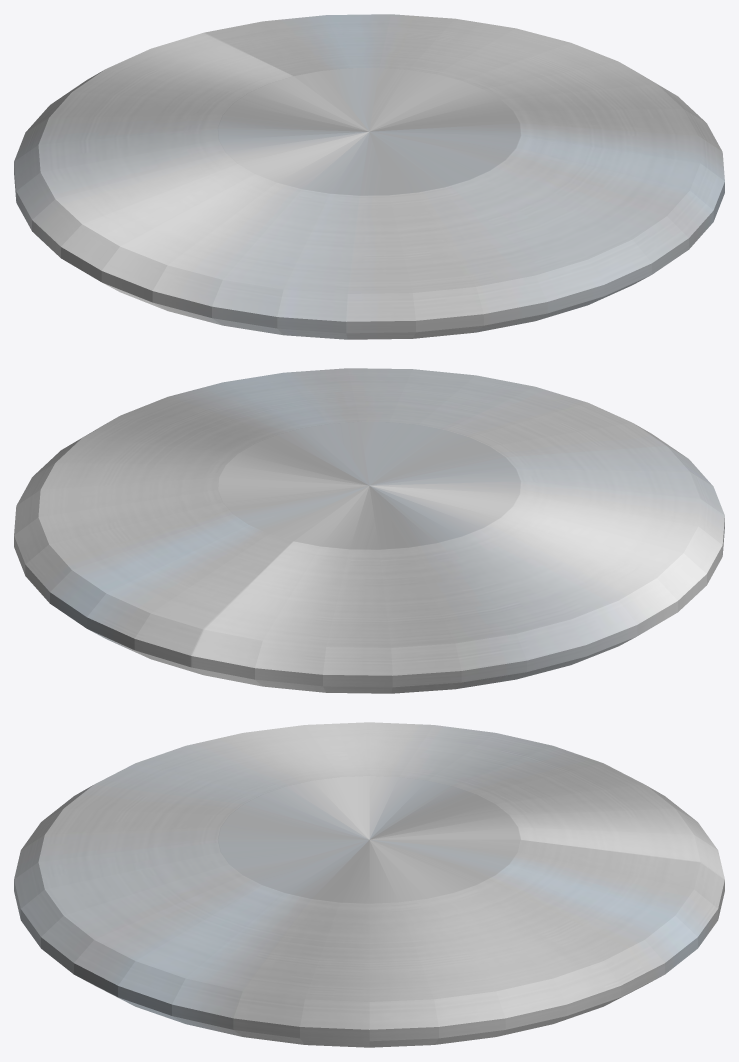
The model's file is ufoBody.obj.
3 views of the same model, one above another, from view 1: azimuth 30°, elevation 25°; view 2: azimuth 150°, elevation 25°; view 3: azimuth 270°, elevation 25° (orthographic).
Parts seen in each view (by area): view 1: body_Sphere; view 2: body_Sphere; view 3: body_Sphere.
Boxes of the visible parts, left/top/right/bottom form: body_Sphere: left=14, top=14, right=724, bottom=339; body_Sphere: left=14, top=368, right=724, bottom=693; body_Sphere: left=14, top=722, right=724, bottom=1047.
Bounding box in the file's own units: 4.7 × 0.6494 × 4.7.
Materials: 1 (1 with a texture image).
